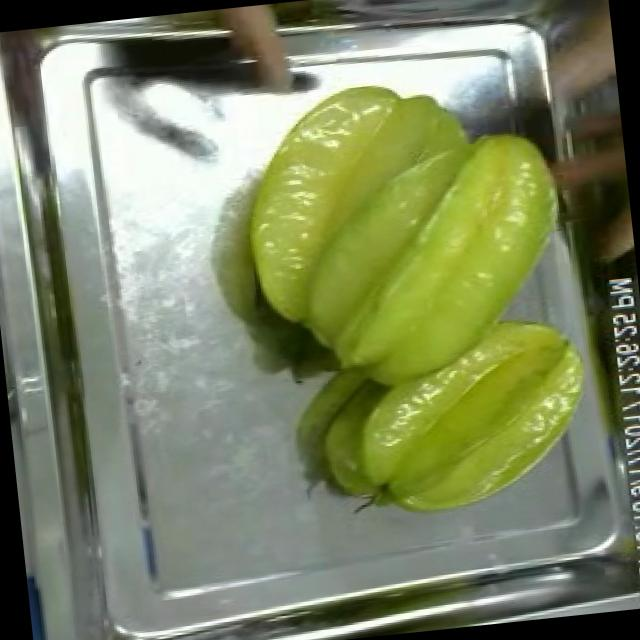fruit: (210, 46, 596, 400), (325, 292, 609, 536)
